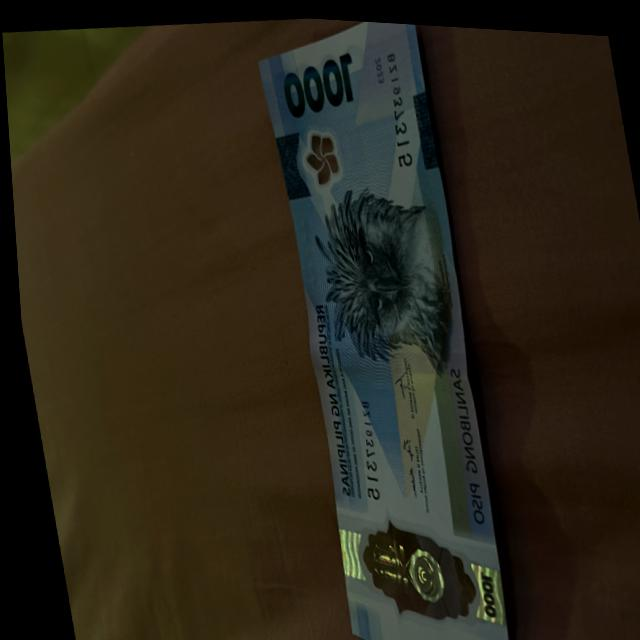clear_window: (346, 508, 470, 627)
eagle: (300, 183, 445, 357)
sampaguita: (295, 122, 338, 182)
